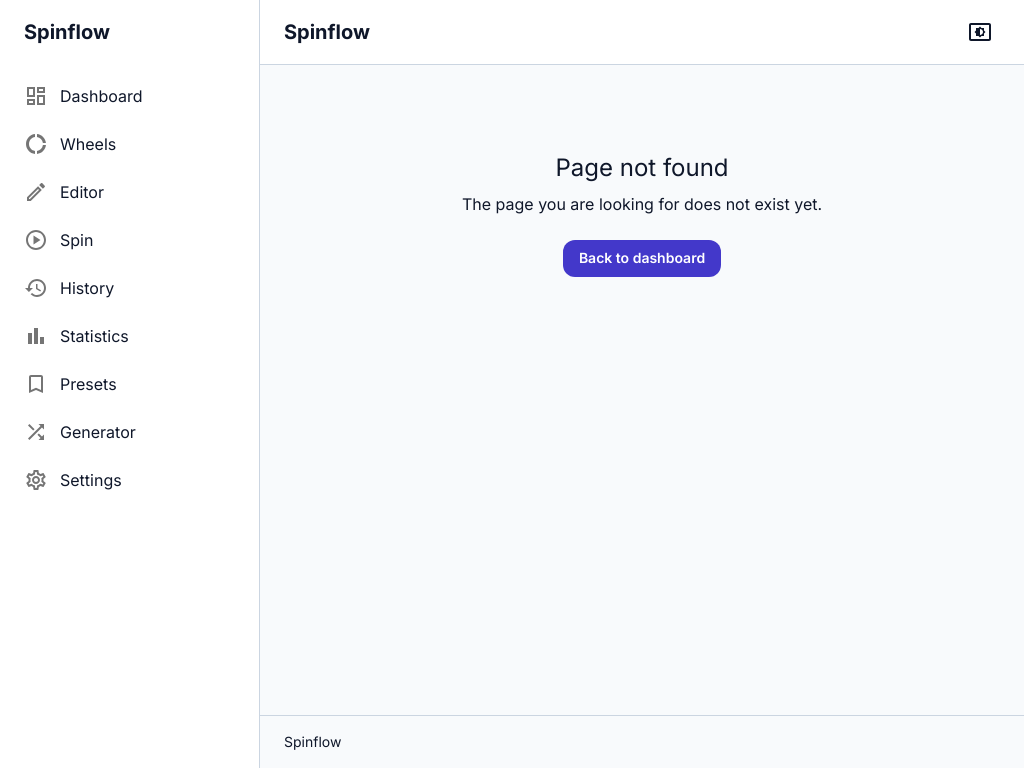
Scenario: App › renders the not found page and returns to the dashboard
Expected: the heading "Page not found" is shown, left=556, top=153, right=729, bottom=182
Click the button "Back to dashboard".
click(642, 259)  # box left=563, top=240, right=721, bottom=277
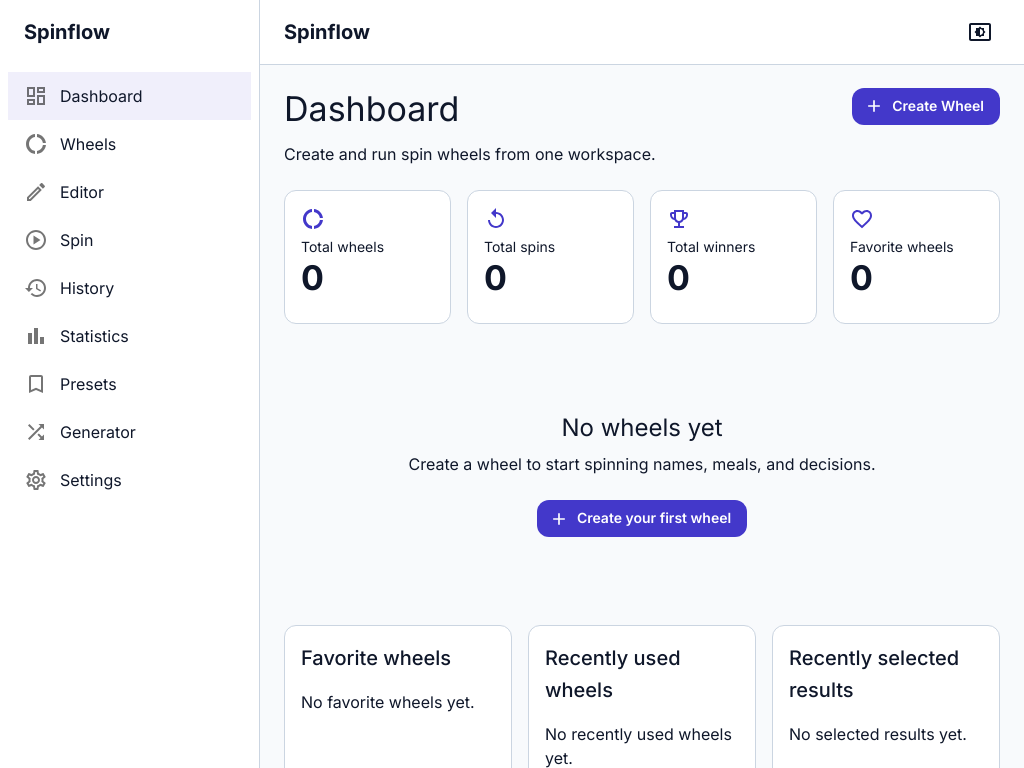
Now the heading "Dashboard" is shown, box left=284, top=88, right=459, bottom=129
